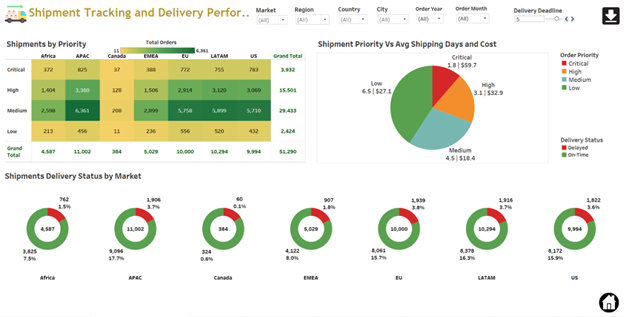

This screenshot's page, from the dashboard's own definition file:
{"tool":"tableau","page":{"name":"Shipments Performance Analysis","canvas":[1000,1000],"units":"permille","ordinal":1},"visuals":[{"type":"text","box":[45,4.4,365.5,72.5]},{"type":"image","param":"Image/Shipment-Icon.jpeg","box":[8.1,10.4,35,68]},{"type":"filter","title":"Shipment Priority Vs Avg Shipping Days and Cost","param":"[federated.0oeoswh0jdtfcr1g4w7tg1t58om9].[none:Country:nk]","box":[542.1,16.3,48.2,66.6]},{"type":"filter","title":"Shipment Priority Vs Avg Shipping Days and Cost","param":"[federated.0oeoswh0jdtfcr1g4w7tg1t58om9].[none:City:nk]","box":[604.2,16.3,53.1,66.6]},{"type":"filter","title":"Shipments by Priority","param":"[federated.0oeoswh0jdtfcr1g4w7tg1t58om9].[mn:Order Date:ok]","box":[730.2,16.3,55.6,66.6]},{"type":"filter","title":"Shipment Priority Vs Avg Shipping Days and Cost","param":"[federated.0oeoswh0jdtfcr1g4w7tg1t58om9].[none:Region:nk]","box":[472.6,17.8,57.2,63.6]},{"type":"filter","title":"Shipments by Priority","param":"[federated.0oeoswh0jdtfcr1g4w7tg1t58om9].[yr:Order Date:ok]","box":[666.4,17.8,46.6,68]},{"type":"filter","title":"Shipment Priority Vs Avg Shipping Days and Cost","param":"[federated.0oeoswh0jdtfcr1g4w7tg1t58om9].[none:Market:nk]","box":[410.5,19.2,52.3,62.1]},{"type":"dashboard-object","box":[961.8,19.2,34.2,62.1]},{"type":"parameter","param":"[Parameters].[Parameter 1]","box":[823.4,20.7,99.3,56.2]},{"type":"worksheet","title":"Shipments by Priority","mark":"Square","rows":["Order Priority"],"cols":["Market"],"box":[9,118.3,480.9,395]},{"type":"worksheet","title":"Shipment Priority Vs Avg Shipping Days and Cost","mark":"Pie","box":[507.8,118.3,371.2,397.9]},{"type":"legend","title":"Shipments by Priority","param":"[federated.0oeoswh0jdtfcr1g4w7tg1t58om9].[usr:Calculation_2994893763984490505:qk","box":[180.7,122.8,156.2,48.8]},{"type":"legend","title":"Shipment Priority Vs Avg Shipping Days and Cost","param":"[federated.0oeoswh0jdtfcr1g4w7tg1t58om9].[none:Order Priority:nk]","box":[898.2,161.2,93.4,145]},{"type":"legend","title":"Shipments Delivery by Market","param":"[federated.0oeoswh0jdtfcr1g4w7tg1t58om9].[none:Calculation_2994893763938332674:n","box":[898.6,429,98.1,82.8]},{"type":"worksheet","title":"Shipments Delivery by Market","mark":"Pie","rows":["Calculation_2994893764161396748","Calculation_2994893764161396748"],"cols":["Market"],"box":[6.5,534,986.2,369.8]},{"type":"dashboard-object","box":[957.7,924.6,36.6,62.1]}]}

Visuals, with their boxes on the dashboard's canvas, which has no fixed pixel size, in thousandths of its width and height (x1, y1, x2, y2). These are canvas units, not pixel positions in the 624x317 screenshot, which may show the page scaled, cropped or inside an application window:
text: <box>45,4,410,77</box>
image: <box>8,10,43,78</box>
"Shipment Priority Vs Avg Shipping Days and Cost" filter: <box>542,16,590,83</box>
"Shipment Priority Vs Avg Shipping Days and Cost" filter: <box>604,16,657,83</box>
"Shipments by Priority" filter: <box>730,16,786,83</box>
"Shipment Priority Vs Avg Shipping Days and Cost" filter: <box>473,18,530,81</box>
"Shipments by Priority" filter: <box>666,18,713,86</box>
"Shipment Priority Vs Avg Shipping Days and Cost" filter: <box>410,19,463,81</box>
dashboard-object: <box>962,19,996,81</box>
parameter: <box>823,21,923,77</box>
"Shipments by Priority" worksheet (Square marks): <box>9,118,490,513</box>
"Shipment Priority Vs Avg Shipping Days and Cost" worksheet (Pie marks): <box>508,118,879,516</box>
"Shipments by Priority" legend: <box>181,123,337,172</box>
"Shipment Priority Vs Avg Shipping Days and Cost" legend: <box>898,161,992,306</box>
"Shipments Delivery by Market" legend: <box>899,429,997,512</box>
"Shipments Delivery by Market" worksheet (Pie marks): <box>6,534,993,904</box>
dashboard-object: <box>958,925,994,987</box>
